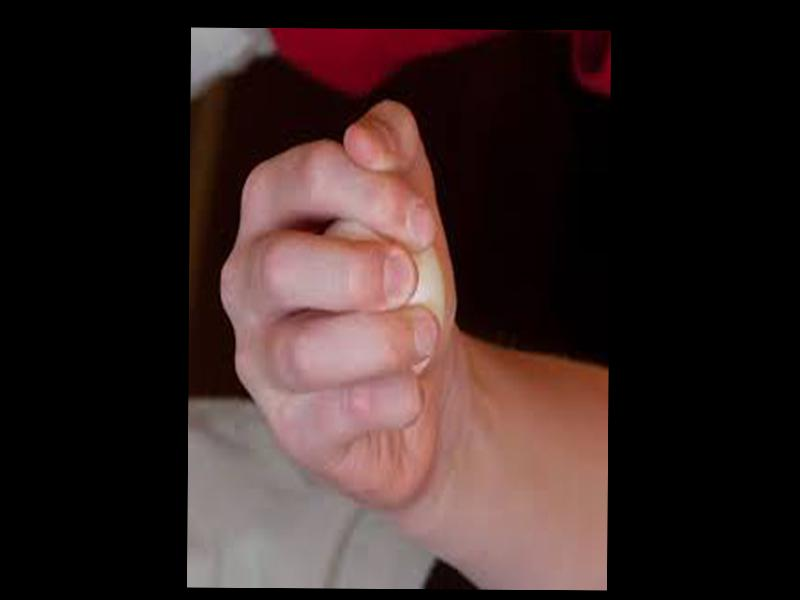Eggs: (320, 199, 447, 374)
